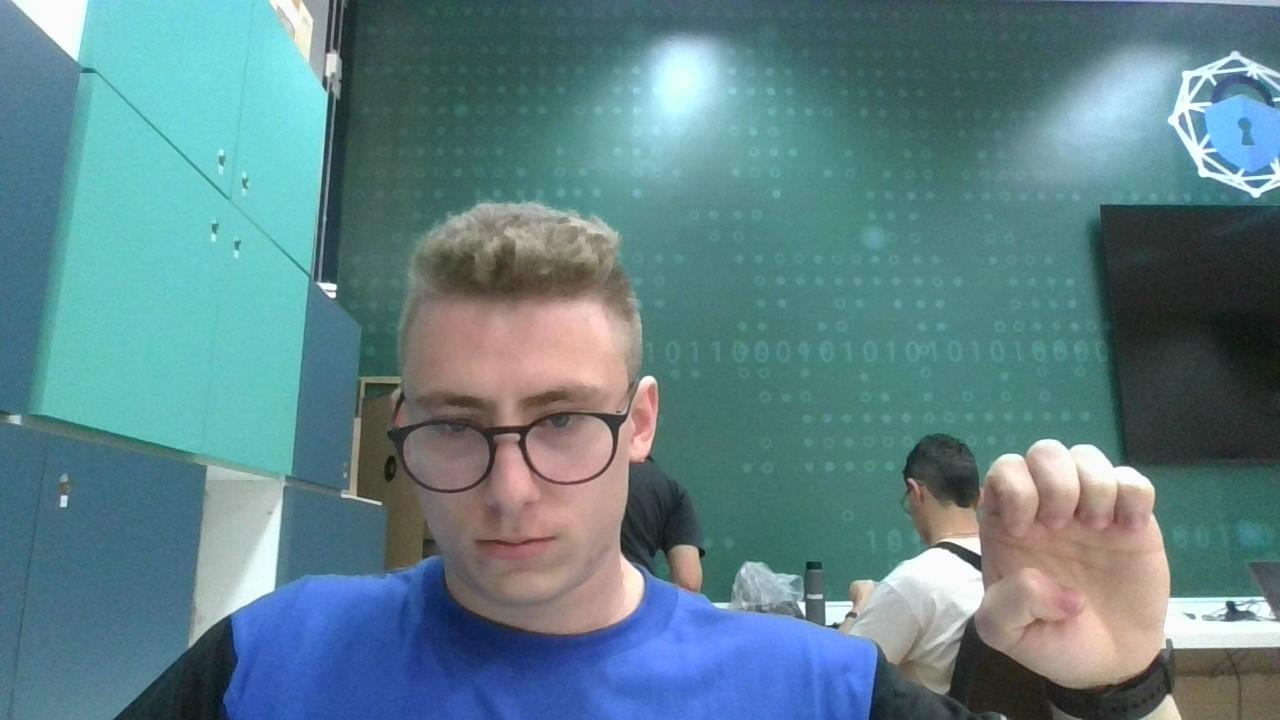E: (966, 436, 1176, 672)
